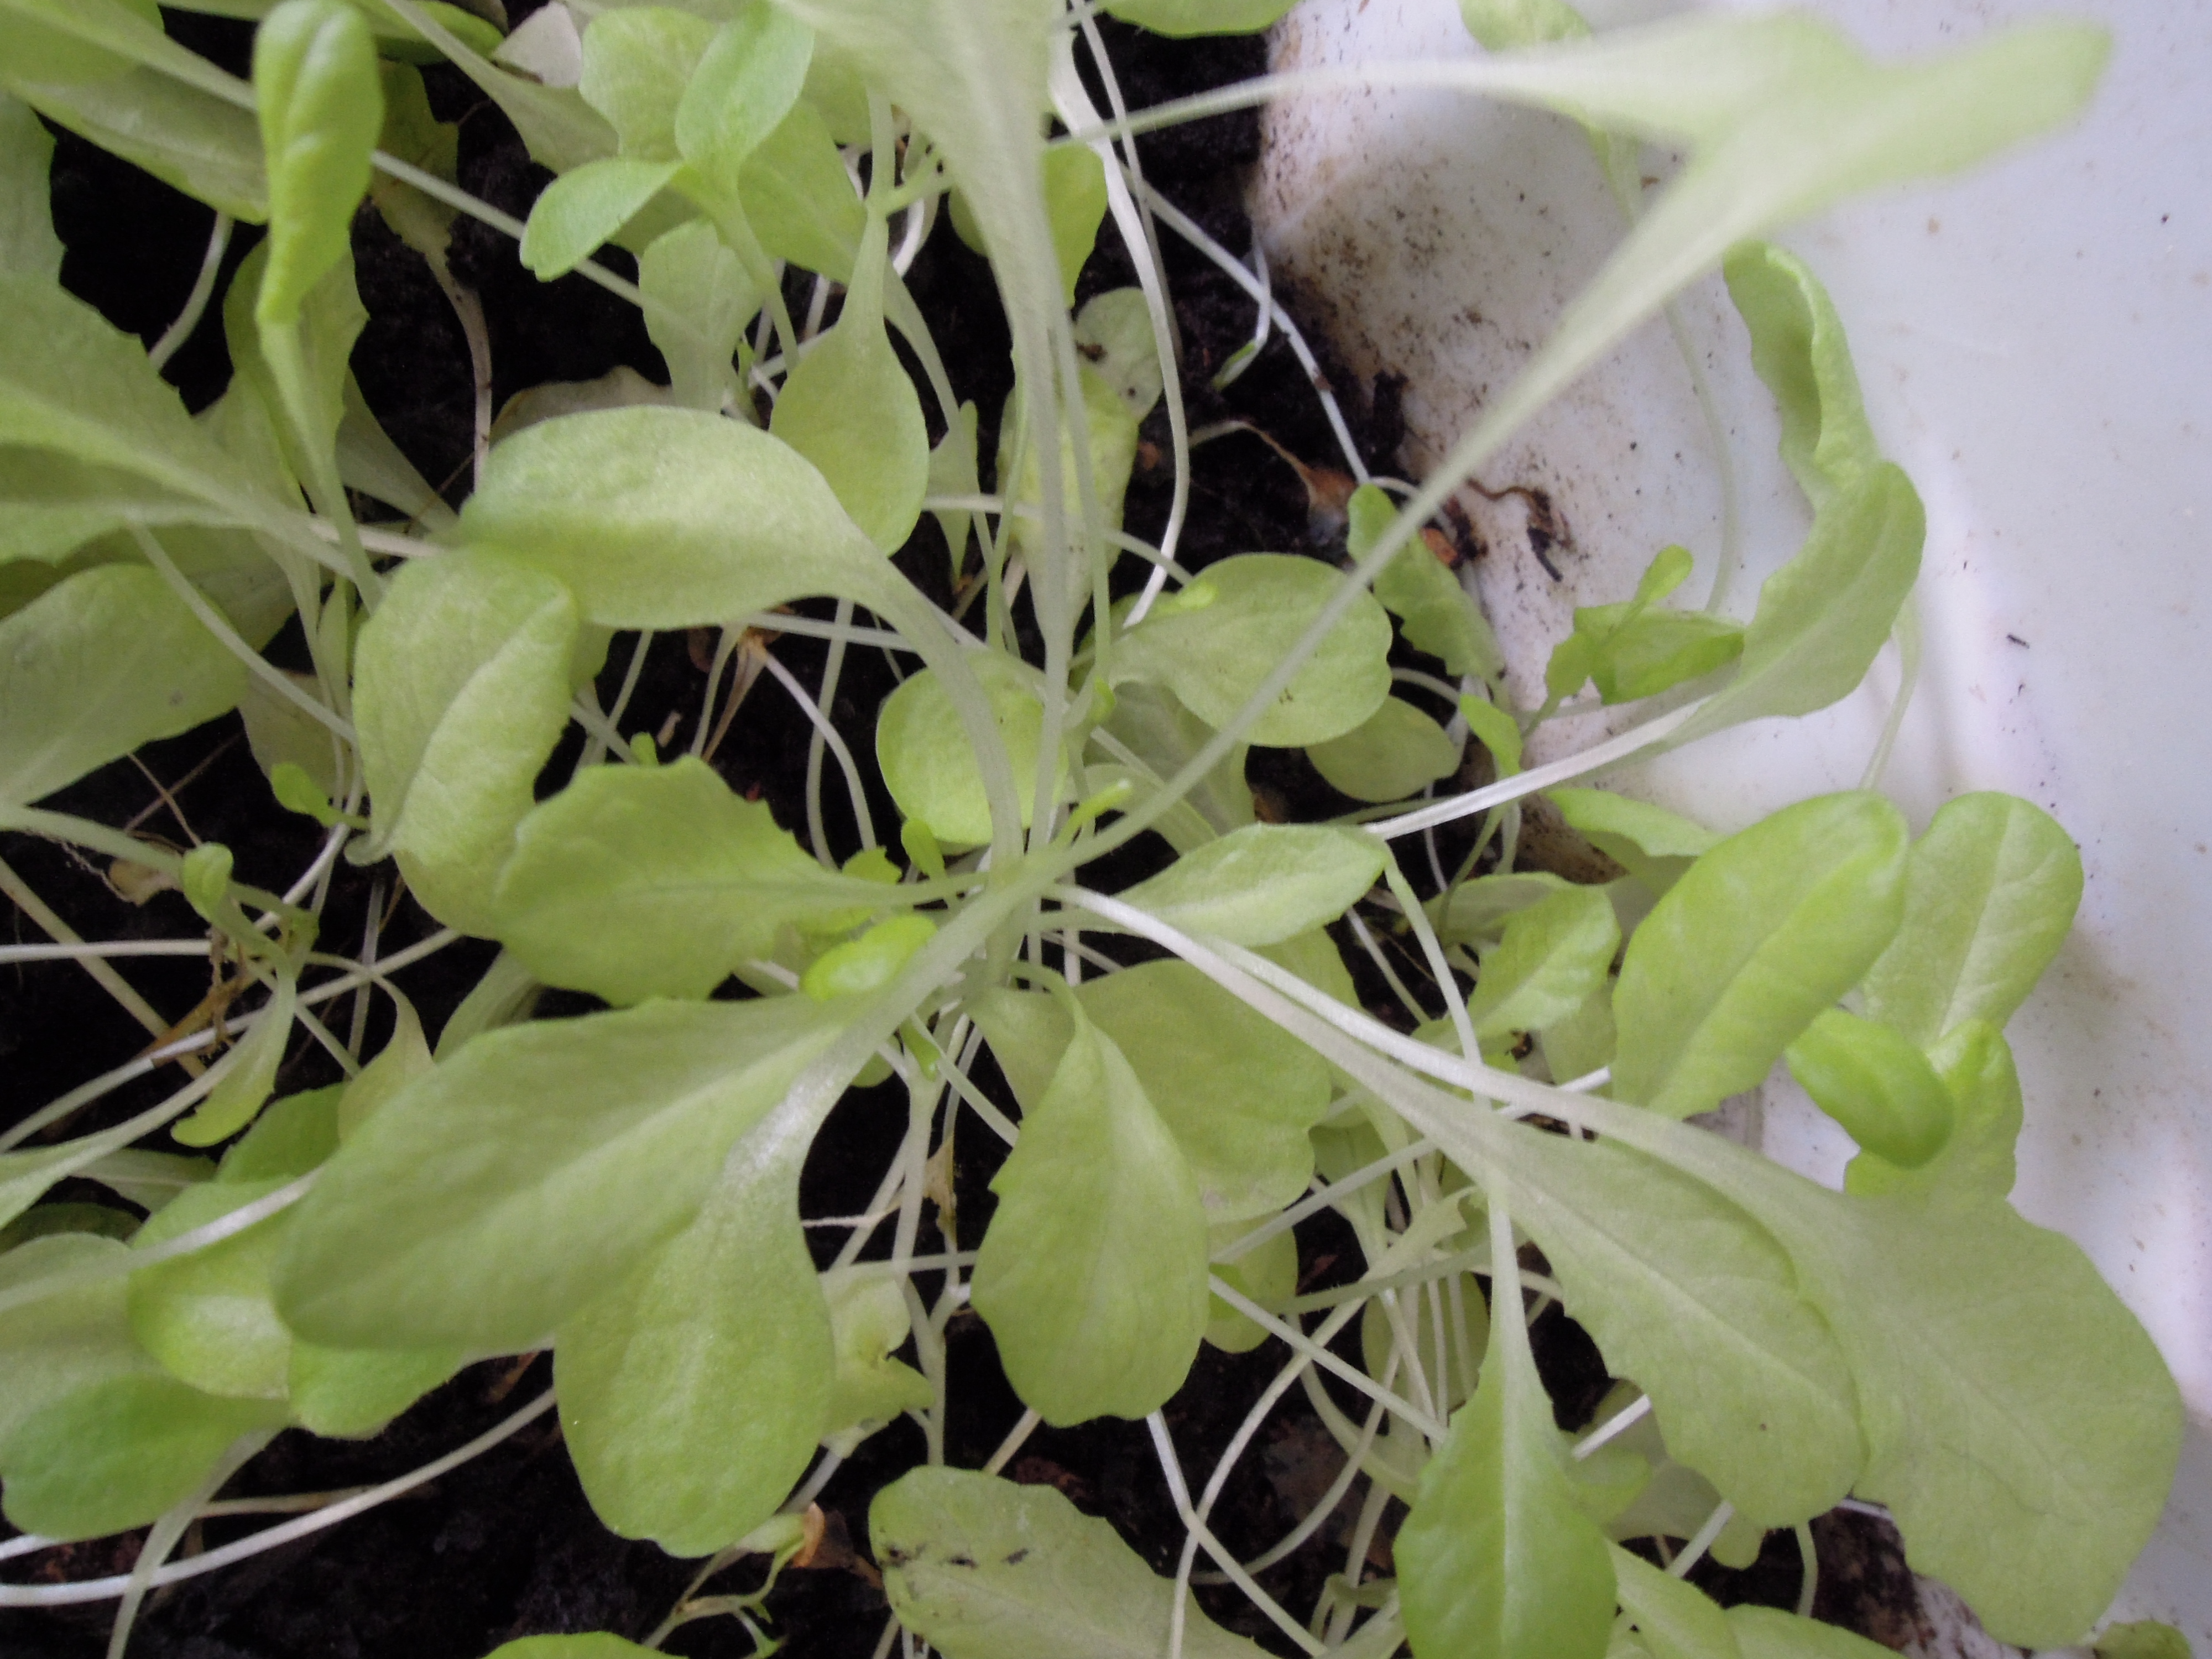weeek6: (301, 16, 2210, 1607)
